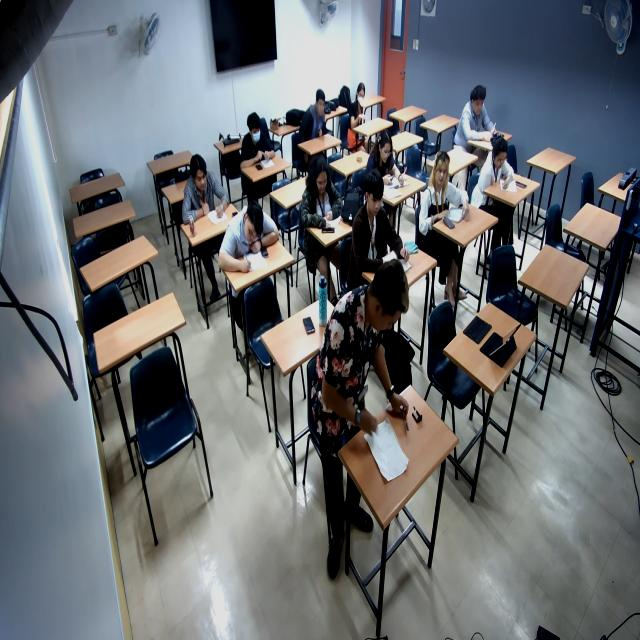read: (354, 185, 423, 272), (216, 203, 281, 281), (423, 152, 476, 244), (181, 156, 233, 232), (299, 160, 347, 241), (370, 130, 416, 197), (458, 84, 503, 150), (481, 139, 522, 200), (241, 113, 278, 179)
